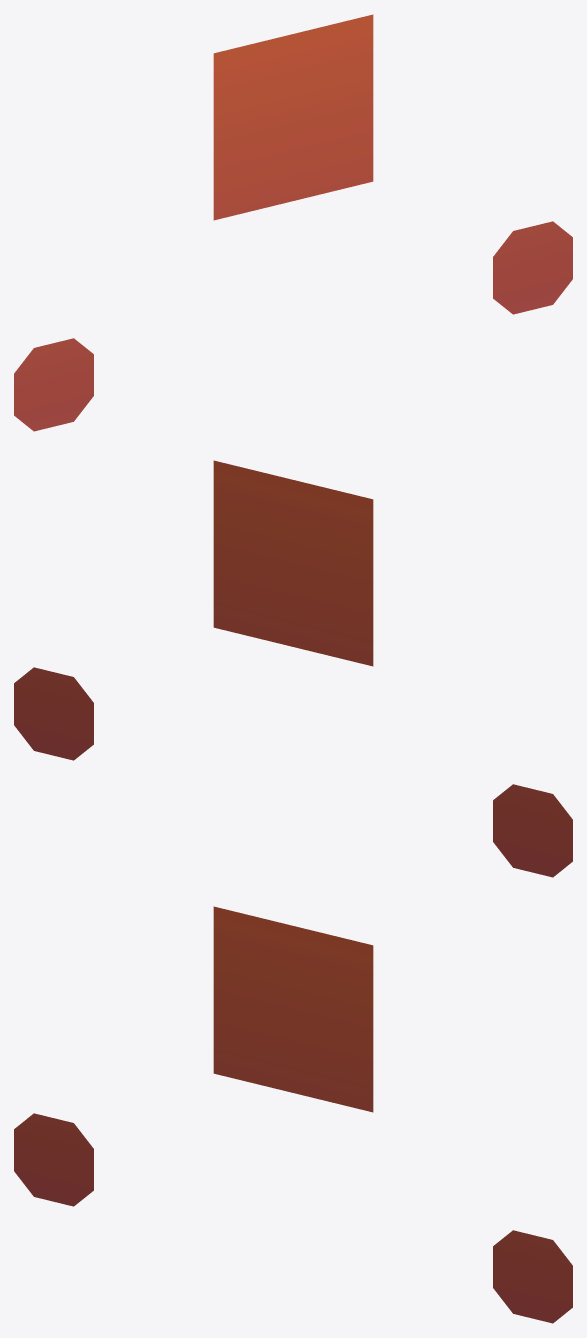
The model's file is coaster-hanging-cap-back.glb.
3 renders of one model, top to bottom at view 1: azimuth 30°, elevation 25°; view 2: azimuth 150°, elevation 25°; view 3: azimuth 330°, elevation 25°, orthographic.
Parts seen in each view (by area): view 1: coaster-hanging-cap-back; view 2: coaster-hanging-cap-back; view 3: coaster-hanging-cap-back.
Boxes of the visible parts, x1,y1,x2,y2 form: coaster-hanging-cap-back: [14, 14, 572, 431]; coaster-hanging-cap-back: [14, 460, 572, 877]; coaster-hanging-cap-back: [14, 906, 572, 1323].
Bounding box in the file's own units: 0.7 × 0.4 × 0.
Materials: 1 (1 with a texture image).
